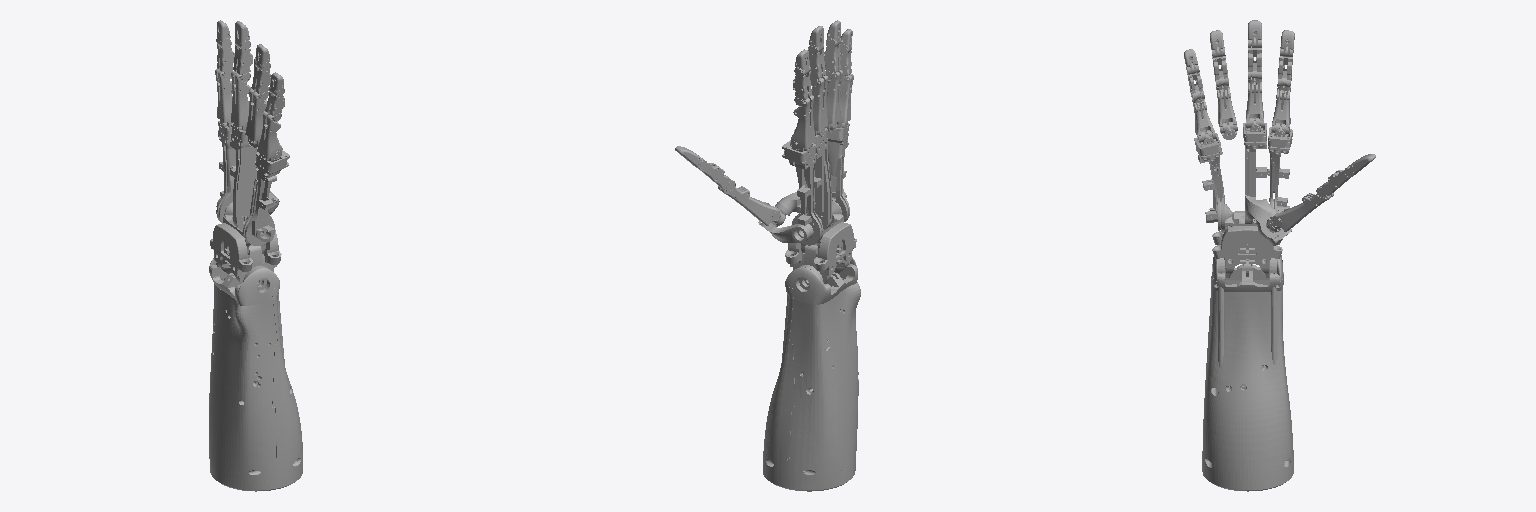
--- What the picture shows (computed from the rendered views, not written in the file) ---
The picture shows the robot from 3 angles, left to right: view 1: azimuth 30°, elevation 25°; view 2: azimuth 150°, elevation 25°; view 3: azimuth 270°, elevation 25°; orthographic projection.
Model dexhand with 29 links and 28 joints (24 revolute, 4 fixed), rooted at base_link, posed all joints at 0.
Visible links, largest first — view 1: forearm_1, wrist_lower_1, pinky_bulk_1, middle_bulk_1, index_bulk_1, middle_plp_1, ring_plp_1, pinky_plp_1, index_plp_1; view 2: forearm_1, middle_bulk_1, wrist_lower_1, index_bulk_1, pinky_bulk_1, thumb_plp_1, index_plp_1, middle_plp_1, ring_plp_1; view 3: forearm_1, wrist_lower_1, middle_bulk_1, pinky_bulk_1, index_bulk_1, thumb_plp_1, middle_plp_1, index_plp_1, ring_plp_1, pinky_plp_1.
Link boxes in pixels (x1,y1,x2,y2): forearm_1: (209, 258, 302, 491); wrist_lower_1: (210, 223, 281, 283); pinky_bulk_1: (243, 150, 289, 245); middle_bulk_1: (216, 123, 279, 230); index_bulk_1: (216, 121, 235, 222); middle_plp_1: (231, 71, 251, 126); ring_plp_1: (245, 89, 268, 141); pinky_plp_1: (257, 111, 282, 158); index_plp_1: (215, 69, 232, 122); forearm_1: (763, 257, 860, 491); middle_bulk_1: (758, 128, 831, 242); wrist_lower_1: (785, 222, 856, 283); index_bulk_1: (782, 140, 823, 245); pinky_bulk_1: (827, 123, 849, 221); thumb_plp_1: (718, 176, 775, 225); index_plp_1: (791, 95, 815, 147); middle_plp_1: (810, 75, 827, 130); ring_plp_1: (826, 70, 842, 123); forearm_1: (1202, 255, 1293, 491); wrist_lower_1: (1212, 211, 1282, 277); middle_bulk_1: (1243, 123, 1291, 245); pinky_bulk_1: (1194, 133, 1224, 230); index_bulk_1: (1267, 127, 1292, 230); thumb_plp_1: (1277, 183, 1333, 231); middle_plp_1: (1246, 71, 1263, 120); index_plp_1: (1272, 77, 1291, 127); ring_plp_1: (1215, 77, 1236, 126); pinky_plp_1: (1190, 91, 1214, 135).
Size in the robot's own frame: 0.117 by 0.1763 by 0.45 metres.
Meshes: 29 distinct files referenced, 28 mesh visuals loaded (28 binary STL); not drawn: 1 (reference not matched to a file when rendering).

The robot description file, URDF, robot "dexhand":
<?xml version="1.0" ?>
<!-- =================================================================================== -->
<!-- |    This document was autogenerated by xacro from dexhand.xacro                  | -->
<!-- |    EDITING THIS FILE BY HAND IS NOT RECOMMENDED                                 | -->
<!-- =================================================================================== -->
<robot name="dexhand">
  <material name="silver">
    <color rgba="0.700 0.700 0.700 1.000"/>
  </material>
  <link name="base_link">
    <inertial>
      <origin rpy="0 0 0" xyz="-5.952490372344805e-18 -5.952490372344805e-18 0.00625299730853927"/>
      <mass value="0.3748186138447861"/>
      <inertia ixx="0.000121" ixy="0.0" ixz="-0.0" iyy="0.000121" iyz="-0.0" izz="0.000233"/>
    </inertial>
    <visual>
      <origin rpy="0 0 0" xyz="0 0 0"/>
      <geometry>
        <mesh filename="meshes/base_link.stl" scale="0.001 0.001 0.001"/>
      </geometry>
      <material name="silver"/>
    </visual>
    <collision>
      <origin rpy="0 0 0" xyz="0 0 0"/>
      <geometry>
        <mesh filename="meshes/base_link.stl" scale="0.001 0.001 0.001"/>
      </geometry>
    </collision>
  </link>
  <link name="forearm_1">
    <inertial>
      <origin rpy="0 0 0" xyz="-0.0045635525882340025 -0.0024890003495871478 0.09119374176848805"/>
      <mass value="2.2753127167166265"/>
      <inertia ixx="0.009336" ixy="-3.2e-05" ixz="0.000837" iyy="0.00912" iyz="4e-06" izz="0.00247"/>
    </inertial>
    <visual>
      <origin rpy="0 0 0" xyz="-0.0 -0.0 -0.0"/>
      <geometry>
        <mesh filename="meshes/forearm_1.stl" scale="0.001 0.001 0.001"/>
      </geometry>
      <material name="silver"/>
    </visual>
    <collision>
      <origin rpy="0 0 0" xyz="-0.0 -0.0 -0.0"/>
      <geometry>
        <mesh filename="meshes/forearm_1.stl" scale="0.001 0.001 0.001"/>
      </geometry>
    </collision>
  </link>
  <link name="wrist_lower_1">
    <inertial>
      <origin rpy="0 0 0" xyz="-3.0683763790256835e-05 0.02099365535807374 0.021635071099651598"/>
      <mass value="0.3236409508310491"/>
      <inertia ixx="0.000132" ixy="-0.0" ixz="-0.0" iyy="0.000118" iyz="-0.0" izz="0.000139"/>
    </inertial>
    <visual>
      <origin rpy="0 0 0" xyz="0.012 0.0217 -0.203"/>
      <geometry>
        <mesh filename="meshes/wrist_lower_1.stl" scale="0.001 0.001 0.001"/>
      </geometry>
      <material name="silver"/>
    </visual>
    <collision>
      <origin rpy="0 0 0" xyz="0.012 0.0217 -0.203"/>
      <geometry>
        <mesh filename="meshes/wrist_lower_1.stl" scale="0.001 0.001 0.001"/>
      </geometry>
    </collision>
  </link>
  <link name="wrist_upper_1">
    <inertial>
      <origin rpy="0 0 0" xyz="0.011943478530919125 1.976395235870395e-08 0.007146961841600852"/>
      <mass value="0.12131953205677495"/>
      <inertia ixx="3.3e-05" ixy="0.0" ixz="-0.0" iyy="2.2e-05" iyz="-0.0" izz="2.6e-05"/>
    </inertial>
    <visual>
      <origin rpy="0 0 0" xyz="0.02398 0.0007 -0.232"/>
      <geometry>
        <mesh filename="meshes/wrist_upper_1.stl" scale="0.001 0.001 0.001"/>
      </geometry>
      <material name="silver"/>
    </visual>
    <collision>
      <origin rpy="0 0 0" xyz="0.02398 0.0007 -0.232"/>
      <geometry>
        <mesh filename="meshes/wrist_upper_1.stl" scale="0.001 0.001 0.001"/>
      </geometry>
    </collision>
  </link>
  <link name="index_bulk_1">
    <inertial>
      <origin rpy="0 0 0" xyz="0.0019538368757692874 0.005732502869548347 0.0431073978685812"/>
      <mass value="0.10571474174321724"/>
      <inertia ixx="0.000112" ixy="-0.0" ixz="-7e-06" iyy="0.000114" iyz="-6e-06" izz="8e-06"/>
    </inertial>
    <visual>
      <origin rpy="0 0 0" xyz="0.01198 -0.0203 -0.255266"/>
      <geometry>
        <mesh filename="meshes/index_bulk_1.stl" scale="0.001 0.001 0.001"/>
      </geometry>
      <material name="silver"/>
    </visual>
    <collision>
      <origin rpy="0 0 0" xyz="0.01198 -0.0203 -0.255266"/>
      <geometry>
        <mesh filename="meshes/index_bulk_1.stl" scale="0.001 0.001 0.001"/>
      </geometry>
    </collision>
  </link>
  <link name="middle_bulk_1">
    <inertial>
      <origin rpy="0 0 0" xyz="0.010646950026404926 -0.0158135798135519 0.030689623412747002"/>
      <mass value="0.2319963124821001"/>
      <inertia ixx="0.000258" ixy="-1.4e-05" ixz="4e-05" iyy="0.000268" iyz="4.2e-05" izz="7.1e-05"/>
    </inertial>
    <visual>
      <origin rpy="0 0 0" xyz="0.01198 -0.0263 -0.255266"/>
      <geometry>
        <mesh filename="meshes/middle_bulk_1.stl" scale="0.001 0.001 0.001"/>
      </geometry>
      <material name="silver"/>
    </visual>
    <collision>
      <origin rpy="0 0 0" xyz="0.01198 -0.0263 -0.255266"/>
      <geometry>
        <mesh filename="meshes/middle_bulk_1.stl" scale="0.001 0.001 0.001"/>
      </geometry>
    </collision>
  </link>
  <link name="ring_bulk_1">
    <inertial>
      <origin rpy="0 0 0" xyz="0.003391811603104299 -0.010251243243741267 0.052778064056847374"/>
      <mass value="0.09588694429304498"/>
      <inertia ixx="7.4e-05" ixy="1e-06" ixz="-7e-06" iyy="7.4e-05" iyz="8e-06" izz="7e-06"/>
    </inertial>
    <visual>
      <origin rpy="0 0 0" xyz="0.01198 0.0027 -0.255266"/>
      <geometry>
        <mesh filename="meshes/ring_bulk_1.stl" scale="0.001 0.001 0.001"/>
      </geometry>
      <material name="silver"/>
    </visual>
    <collision>
      <origin rpy="0 0 0" xyz="0.01198 0.0027 -0.255266"/>
      <geometry>
        <mesh filename="meshes/ring_bulk_1.stl" scale="0.001 0.001 0.001"/>
      </geometry>
    </collision>
  </link>
  <link name="index_knuckle_1">
    <inertial>
      <origin rpy="0 0 0" xyz="0.007134673083101494 -0.000554087541311192 0.0011013348331223027"/>
      <mass value="0.016772407452453803"/>
      <inertia ixx="1e-06" ixy="0.0" ixz="-0.0" iyy="1e-06" iyz="0.0" izz="1e-06"/>
    </inertial>
    <visual>
      <origin rpy="0 0 0" xyz="0.015885 -0.030139 -0.340157"/>
      <geometry>
        <mesh filename="meshes/index_knuckle_1.stl" scale="0.001 0.001 0.001"/>
      </geometry>
      <material name="silver"/>
    </visual>
    <collision>
      <origin rpy="0 0 0" xyz="0.015885 -0.030139 -0.340157"/>
      <geometry>
        <mesh filename="meshes/index_knuckle_1.stl" scale="0.001 0.001 0.001"/>
      </geometry>
    </collision>
  </link>
  <link name="middle_knuckle_1">
    <inertial>
      <origin rpy="0 0 0" xyz="0.006935399474227786 3.095281810115008e-08 0.0009794888636301402"/>
      <mass value="0.016772407452453803"/>
      <inertia ixx="1e-06" ixy="0.0" ixz="-0.0" iyy="1e-06" iyz="0.0" izz="1e-06"/>
    </inertial>
    <visual>
      <origin rpy="0 0 0" xyz="0.014846 -0.0063 -0.346266"/>
      <geometry>
        <mesh filename="meshes/middle_knuckle_1.stl" scale="0.001 0.001 0.001"/>
      </geometry>
      <material name="silver"/>
    </visual>
    <collision>
      <origin rpy="0 0 0" xyz="0.014846 -0.0063 -0.346266"/>
      <geometry>
        <mesh filename="meshes/middle_knuckle_1.stl" scale="0.001 0.001 0.001"/>
      </geometry>
    </collision>
  </link>
  <link name="ring_knuckle_1">
    <inertial>
      <origin rpy="0 0 0" xyz="0.006918049206992899 0.000487529427883715 0.0009797412002321981"/>
      <mass value="0.016772407452453803"/>
      <inertia ixx="1e-06" ixy="-0.0" ixz="-0.0" iyy="1e-06" iyz="-0.0" izz="1e-06"/>
    </inertial>
    <visual>
      <origin rpy="0 0 0" xyz="0.013981 0.018338 -0.342345"/>
      <geometry>
        <mesh filename="meshes/ring_knuckle_1.stl" scale="0.001 0.001 0.001"/>
      </geometry>
      <material name="silver"/>
    </visual>
    <collision>
      <origin rpy="0 0 0" xyz="0.013981 0.018338 -0.342345"/>
      <geometry>
        <mesh filename="meshes/ring_knuckle_1.stl" scale="0.001 0.001 0.001"/>
      </geometry>
    </collision>
  </link>
  <link name="pinky_knuckle_1">
    <inertial>
      <origin rpy="0 0 0" xyz="0.006818820473942532 0.0011821873591725332 0.0010801856787559516"/>
      <mass value="0.016772407452453803"/>
      <inertia ixx="1e-06" ixy="-0.0" ixz="-0.0" iyy="1e-06" iyz="-0.0" izz="1e-06"/>
    </inertial>
    <visual>
      <origin rpy="0 0 0" xyz="0.013416 0.038988 -0.334029"/>
      <geometry>
        <mesh filename="meshes/pinky_knuckle_1.stl" scale="0.001 0.001 0.001"/>
      </geometry>
      <material name="silver"/>
    </visual>
    <collision>
      <origin rpy="0 0 0" xyz="0.013416 0.038988 -0.334029"/>
      <geometry>
        <mesh filename="meshes/pinky_knuckle_1.stl" scale="0.001 0.001 0.001"/>
      </geometry>
    </collision>
  </link>
  <link name="index_plp_1">
    <inertial>
      <origin rpy="0 0 0" xyz="-0.006869198158126683 -0.006033909809302226 0.022940465298997237"/>
      <mass value="0.051567105457974535"/>
      <inertia ixx="1.1e-05" ixy="-0.0" ixz="0.0" iyy="1.1e-05" iyz="-1e-06" izz="2e-06"/>
    </inertial>
    <visual>
      <origin rpy="0 0 0" xyz="0.007269 -0.037678 -0.343728"/>
      <geometry>
        <mesh filename="meshes/index_plp_1.stl" scale="0.001 0.001 0.001"/>
      </geometry>
      <material name="silver"/>
    </visual>
    <collision>
      <origin rpy="0 0 0" xyz="0.007269 -0.037678 -0.343728"/>
      <geometry>
        <mesh filename="meshes/index_plp_1.stl" scale="0.001 0.001 0.001"/>
      </geometry>
    </collision>
  </link>
  <link name="index_mlp_1">
<!--    <inertial>-->
<!--      <origin rpy="0 0 0" xyz="-0.0014672452336520724 -0.004861924263139264 0.014904028884496767"/>-->
<!--      <mass value="0.017288956361389173"/>-->
<!--      <inertia ixx="1e-06" ixy="-0.0" ixz="-0.0" iyy="1e-06" iyz="-0.0" izz="0.0"/>-->
<!--    </inertial>-->
    <visual>
      <origin rpy="0 0 0" xyz="0.011959 -0.038935 -0.388702"/>
      <geometry>
        <mesh filename="meshes/index_mlp_1.stl" scale="0.001 0.001 0.001"/>
      </geometry>
      <material name="silver"/>
    </visual>
    <collision>
      <origin rpy="0 0 0" xyz="0.011959 -0.038935 -0.388702"/>
      <geometry>
        <mesh filename="meshes/index_mlp_1.stl" scale="0.001 0.001 0.001"/>
      </geometry>
    </collision>
  </link>
  <link name="index_tip_1">
<!--    <inertial>-->
<!--      <origin rpy="0 0 0" xyz="-0.0008641939647346161 -0.005385771025884202 0.006769569897979"/>-->
<!--      <mass value="0.0160783570939756"/>-->
<!--      <inertia ixx="1e-06" ixy="-0.0" ixz="0.0" iyy="1e-06" iyz="-0.0" izz="0.0"/>-->
<!--    </inertial>-->
    <visual>
      <origin rpy="0 0 0" xyz="0.013327 -0.041154 -0.418589"/>
      <geometry>
        <mesh filename="meshes/index_tip_1.stl" scale="0.001 0.001 0.001"/>
      </geometry>
      <material name="silver"/>
    </visual>
    <collision>
      <origin rpy="0 0 0" xyz="0.013327 -0.041154 -0.418589"/>
      <geometry>
        <mesh filename="meshes/index_tip_1.stl" scale="0.001 0.001 0.001"/>
      </geometry>
    </collision>
  </link>
  <link name="middle_plp_1">
    <inertial>
      <origin rpy="0 0 0" xyz="-0.00594358104054421 -0.00819999164061916 0.02373210744114279"/>
      <mass value="0.05600912510930776"/>
      <inertia ixx="1.3e-05" ixy="0.0" ixz="0.0" iyy="1.3e-05" iyz="0.0" izz="2e-06"/>
    </inertial>
    <visual>
      <origin rpy="0 0 0" xyz="0.007096 -0.0143 -0.350266"/>
      <geometry>
        <mesh filename="meshes/middle_plp_1.stl" scale="0.001 0.001 0.001"/>
      </geometry>
      <material name="silver"/>
    </visual>
    <collision>
      <origin rpy="0 0 0" xyz="0.007096 -0.0143 -0.350266"/>
      <geometry>
        <mesh filename="meshes/middle_plp_1.stl" scale="0.001 0.001 0.001"/>
      </geometry>
    </collision>
  </link>
  <link name="middle_mlp_1">
    <inertial>
      <origin rpy="0 0 0" xyz="-0.0002942937668230401 -0.006300032078833909 0.01528820861860336"/>
      <mass value="0.019660714741942815"/>
      <inertia ixx="1e-06" ixy="0.0" ixz="-0.0" iyy="1e-06" iyz="0.0" izz="1e-06"/>
    </inertial>
    <visual>
      <origin rpy="0 0 0" xyz="0.011096 -0.0123 -0.397516"/>
      <geometry>
        <mesh filename="meshes/middle_mlp_1.stl" scale="0.001 0.001 0.001"/>
      </geometry>
      <material name="silver"/>
    </visual>
    <collision>
      <origin rpy="0 0 0" xyz="0.011096 -0.0123 -0.397516"/>
      <geometry>
        <mesh filename="meshes/middle_mlp_1.stl" scale="0.001 0.001 0.001"/>
      </geometry>
    </collision>
  </link>
  <link name="middle_tip_1">
<!--    <inertial>-->
<!--      <origin rpy="0 0 0" xyz="-0.0006361624064090965 -0.006200060330852975 0.0068547001404333785"/>-->
<!--      <mass value="0.0177222165691614"/>-->
<!--      <inertia ixx="1e-06" ixy="0.0" ixz="0.0" iyy="1e-06" iyz="0.0" izz="0.0"/>-->
<!--    </inertial>-->
    <visual>
      <origin rpy="0 0 0" xyz="0.011096 -0.0123 -0.429016"/>
      <geometry>
        <mesh filename="meshes/middle_tip_1.stl" scale="0.001 0.001 0.001"/>
      </geometry>
      <material name="silver"/>
    </visual>
    <collision>
      <origin rpy="0 0 0" xyz="0.011096 -0.0123 -0.429016"/>
      <geometry>
        <mesh filename="meshes/middle_tip_1.stl" scale="0.001 0.001 0.001"/>
      </geometry>
    </collision>
  </link>
  <link name="ring_plp_1">
    <inertial>
      <origin rpy="0 0 0" xyz="-0.004988778025381051 -0.011235452676283293 0.021431089299078443"/>
      <mass value="0.051607390430851795"/>
      <inertia ixx="1.1e-05" ixy="0.0" ixz="-0.0" iyy="1.1e-05" iyz="1e-06" izz="2e-06"/>
    </inertial>
    <visual>
      <origin rpy="0 0 0" xyz="0.006914 0.010213 -0.347254"/>
      <geometry>
        <mesh filename="meshes/ring_plp_1.stl" scale="0.001 0.001 0.001"/>
      </geometry>
      <material name="silver"/>
    </visual>
    <collision>
      <origin rpy="0 0 0" xyz="0.006914 0.010213 -0.347254"/>
      <geometry>
        <mesh filename="meshes/ring_plp_1.stl" scale="0.001 0.001 0.001"/>
      </geometry>
    </collision>
  </link>
  <link name="ring_mlp_1">
<!--    <inertial>-->
<!--      <origin rpy="0 0 0" xyz="0.00037321408367821905 -0.007644713369413636 0.013759338633879237"/>-->
<!--      <mass value="0.017289443732746056"/>-->
<!--      <inertia ixx="1e-06" ixy="0.0" ixz="-0.0" iyy="1e-06" iyz="0.0" izz="0.0"/>-->
<!--    </inertial>-->
    <visual>
      <origin rpy="0 0 0" xyz="0.010293 0.018042 -0.39168"/>
      <geometry>
        <mesh filename="meshes/ring_mlp_1.stl" scale="0.001 0.001 0.001"/>
      </geometry>
      <material name="silver"/>
    </visual>
    <collision>
      <origin rpy="0 0 0" xyz="0.010293 0.018042 -0.39168"/>
      <geometry>
        <mesh filename="meshes/ring_mlp_1.stl" scale="0.001 0.001 0.001"/>
      </geometry>
    </collision>
  </link>
  <link name="ring_tip_1">
<!--    <inertial>-->
<!--      <origin rpy="0 0 0" xyz="-2.475222624376619e-05 -0.006623152446546359 0.005616048262013451"/>-->
<!--      <mass value="0.016038982608931798"/>-->
<!--      <inertia ixx="1e-06" ixy="0.0" ixz="0.0" iyy="1e-06" iyz="0.0" izz="0.0"/>-->
<!--    </inertial>-->
    <visual>
      <origin rpy="0 0 0" xyz="0.010021 0.021513 -0.421477"/>
      <geometry>
        <mesh filename="meshes/ring_tip_1.stl" scale="0.001 0.001 0.001"/>
      </geometry>
      <material name="silver"/>
    </visual>
    <collision>
      <origin rpy="0 0 0" xyz="0.010021 0.021513 -0.421477"/>
      <geometry>
        <mesh filename="meshes/ring_tip_1.stl" scale="0.001 0.001 0.001"/>
      </geometry>
    </collision>
  </link>
  <link name="pinky_plp_1">
    <inertial>
      <origin rpy="0 0 0" xyz="-0.0038106689386204866 -0.012544392770237969 0.01824146705848928"/>
      <mass value="0.04272741599660885"/>
      <inertia ixx="8e-06" ixy="0.0" ixz="-0.0" iyy="8e-06" iyz="1e-06" izz="1e-06"/>
    </inertial>
    <visual>
      <origin rpy="0 0 0" xyz="0.007304 0.030449 -0.339487"/>
      <geometry>
        <mesh filename="meshes/pinky_plp_1.stl" scale="0.001 0.001 0.001"/>
      </geometry>
      <material name="silver"/>
    </visual>
    <collision>
      <origin rpy="0 0 0" xyz="0.007304 0.030449 -0.339487"/>
      <geometry>
        <mesh filename="meshes/pinky_plp_1.stl" scale="0.001 0.001 0.001"/>
      </geometry>
    </collision>
  </link>
  <link name="pinky_mlp_1">
<!--    <inertial>-->
<!--      <origin rpy="0 0 0" xyz="0.0010481249693847592 -0.007529779935539188 0.011942260100063107"/>-->
<!--      <mass value="0.012979924052628225"/>-->
<!--      <inertia ixx="1e-06" ixy="0.0" ixz="-0.0" iyy="1e-06" iyz="0.0" izz="0.0"/>-->
<!--    </inertial>-->
    <visual>
      <origin rpy="0 0 0" xyz="0.009816 0.041033 -0.37881"/>
      <geometry>
        <mesh filename="meshes/pinky_mlp_1.stl" scale="0.001 0.001 0.001"/>
      </geometry>
      <material name="silver"/>
    </visual>
    <collision>
      <origin rpy="0 0 0" xyz="0.009816 0.041033 -0.37881"/>
      <geometry>
        <mesh filename="meshes/pinky_mlp_1.stl" scale="0.001 0.001 0.001"/>
      </geometry>
    </collision>
  </link>
  <link name="pinky_tip_1">
<!--    <inertial>-->
<!--      <origin rpy="0 0 0" xyz="0.0005692184398215679 -0.006140507616860642 0.004252021497513858"/>-->
<!--      <mass value="0.012880734939160096"/>-->
<!--      <inertia ixx="1e-06" ixy="0.0" ixz="0.0" iyy="1e-06" iyz="0.0" izz="0.0"/>-->
<!--    </inertial>-->
    <visual>
      <origin rpy="0 0 0" xyz="0.009341 0.045718 -0.405396"/>
      <geometry>
        <mesh filename="meshes/pinky_tip_1.stl" scale="0.001 0.001 0.001"/>
      </geometry>
      <material name="silver"/>
    </visual>
    <collision>
      <origin rpy="0 0 0" xyz="0.009341 0.045718 -0.405396"/>
      <geometry>
        <mesh filename="meshes/pinky_tip_1.stl" scale="0.001 0.001 0.001"/>
      </geometry>
    </collision>
  </link>
  <link name="thumb_cmc_b_1">
    <inertial>
      <origin rpy="0 0 0" xyz="0.0033512527298519643 0.005810607163787045 -0.008141548652481512"/>
      <mass value="0.008494087027059793"/>
      <inertia ixx="0.0" ixy="-0.0" ixz="0.0" iyy="0.0" iyz="0.0" izz="0.0"/>
    </inertial>
    <visual>
      <origin rpy="0 0 0" xyz="-0.014937 -0.01879 -0.268001"/>
      <geometry>
        <mesh filename="meshes/thumb_cmc_b_1.stl" scale="0.001 0.001 0.001"/>
      </geometry>
      <material name="silver"/>
    </visual>
    <collision>
      <origin rpy="0 0 0" xyz="-0.014937 -0.01879 -0.268001"/>
      <geometry>
        <mesh filename="meshes/thumb_cmc_b_1.stl" scale="0.001 0.001 0.001"/>
      </geometry>
    </collision>
  </link>
  <link name="thumb_cmc_a_1">
    <inertial>
      <origin rpy="0 0 0" xyz="0.0029466810384300712 0.005054293341482698 0.005851296597689126"/>
      <mass value="0.015039242610946097"/>
      <inertia ixx="0.0" ixy="0.0" ixz="-0.0" iyy="0.0" iyz="-0.0" izz="0.0"/>
    </inertial>
    <visual>
      <origin rpy="0 0 0" xyz="-0.017759 -0.023693 -0.258808"/>
      <geometry>
        <mesh filename="meshes/thumb_cmc_a_1.stl" scale="0.001 0.001 0.001"/>
      </geometry>
      <material name="silver"/>
    </visual>
    <collision>
      <origin rpy="0 0 0" xyz="-0.017759 -0.023693 -0.258808"/>
      <geometry>
        <mesh filename="meshes/thumb_cmc_a_1.stl" scale="0.001 0.001 0.001"/>
      </geometry>
    </collision>
  </link>
  <link name="thumb_plp_1">
    <inertial>
      <origin rpy="0 0 0" xyz="0.005433746290735154 0.025637034957291558 0.01661470656693176"/>
      <mass value="0.06710748615776632"/>
      <inertia ixx="2e-05" ixy="-5e-06" ixz="-5e-06" iyy="1.5e-05" iyz="-9e-06" izz="1.3e-05"/>
    </inertial>
    <visual>
      <origin rpy="0 0 0" xyz="-0.028683 -0.026348 -0.26657"/>
      <geometry>
        <mesh filename="meshes/thumb_plp_1.stl" scale="0.001 0.001 0.001"/>
      </geometry>
      <material name="silver"/>
    </visual>
    <collision>
      <origin rpy="0 0 0" xyz="-0.028683 -0.026348 -0.26657"/>
      <geometry>
        <mesh filename="meshes/thumb_plp_1.stl" scale="0.001 0.001 0.001"/>
      </geometry>
    </collision>
  </link>
  <link name="thumb_mlp_1">
    <inertial>
      <origin rpy="0 0 0" xyz="0.002151568364903468 0.015611380274394432 0.012743956202626694"/>
      <mass value="0.025187203449803457"/>
      <inertia ixx="2e-06" ixy="-0.0" ixz="-0.0" iyy="2e-06" iyz="-1e-06" izz="2e-06"/>
    </inertial>
    <visual>
      <origin rpy="0 0 0" xyz="-0.049475 -0.066604 -0.306172"/>
      <geometry>
        <mesh filename="meshes/thumb_mlp_1.stl" scale="0.001 0.001 0.001"/>
      </geometry>
      <material name="silver"/>
    </visual>
    <collision>
      <origin rpy="0 0 0" xyz="-0.049475 -0.066604 -0.306172"/>
      <geometry>
        <mesh filename="meshes/thumb_mlp_1.stl" scale="0.001 0.001 0.001"/>
      </geometry>
    </collision>
  </link>
  <link name="thumb_tip_1">
    <inertial>
      <origin rpy="0 0 0" xyz="-0.0009246362325293633 0.010131321702323517 0.007474037055237359"/>
      <mass value="0.02316990761545859"/>
      <inertia ixx="2e-06" ixy="-0.0" ixz="-0.0" iyy="2e-06" iyz="-1e-06" izz="2e-06"/>
    </inertial>
    <visual>
      <origin rpy="0 0 0" xyz="-0.064312 -0.092065 -0.333221"/>
      <geometry>
        <mesh filename="meshes/thumb_tip_1.stl" scale="0.001 0.001 0.001"/>
      </geometry>
      <material name="silver"/>
    </visual>
    <collision>
      <origin rpy="0 0 0" xyz="-0.064312 -0.092065 -0.333221"/>
      <geometry>
        <mesh filename="meshes/thumb_tip_1.stl" scale="0.001 0.001 0.001"/>
      </geometry>
    </collision>
  </link>
  <link name="pinky_bulk_1">
    <inertial>
      <origin rpy="0 0 0" xyz="0.0027271468848747184 -0.022196857115917325 0.03641088783645313"/>
      <mass value="0.11417768838788588"/>
      <inertia ixx="0.000111" ixy="1e-06" ixz="-1e-05" iyy="0.000112" iyz="1.3e-05" izz="1e-05"/>
    </inertial>
    <visual>
      <origin rpy="0 0 0" xyz="0.01198 0.008743 -0.255266"/>
      <geometry>
        <mesh filename="meshes/pinky_bulk_1.stl" scale="0.001 0.001 0.001"/>
      </geometry>
      <material name="silver"/>
    </visual>
    <collision>
      <origin rpy="0 0 0" xyz="0.01198 0.008743 -0.255266"/>
      <geometry>
        <mesh filename="meshes/pinky_bulk_1.stl" scale="0.001 0.001 0.001"/>
      </geometry>
    </collision>
  </link>
  <joint name="flange" type="fixed">
    <origin rpy="0 0 0" xyz="0.0 0.0 0.0"/>
    <parent link="base_link"/>
    <child link="forearm_1"/>
  </joint>
  <joint name="wrist_pitch_lower" type="revolute">
    <origin rpy="0 0 0" xyz="-0.012 -0.0217 0.203"/>
    <parent link="forearm_1"/>
    <child link="wrist_lower_1"/>
    <axis xyz="0.0 -1.0 0.0"/>
    <limit effort="100" lower="-0.523599" upper="0.523599" velocity="100"/>
  </joint>
  <joint name="wrist_yaw" type="revolute">
    <origin rpy="0 0 0" xyz="-0.01198 0.021 0.029"/>
    <parent link="wrist_lower_1"/>
    <child link="wrist_upper_1"/>
    <axis xyz="-1.0 0.0 0.0"/>
    <limit effort="100" lower="-0.436332" upper="0.436332" velocity="100"/>
  </joint>
  <joint name="wrist_pitch_upper" type="revolute">
    <origin rpy="0 0 0" xyz="0.012 0.021 0.023266"/>
    <parent link="wrist_upper_1"/>
    <child link="index_bulk_1"/>
    <axis xyz="-0.0 -1.0 -0.0"/>
    <limit effort="100" lower="-0.349066" upper="0.349066" velocity="100"/>
  </joint>
  <joint name="middle_bulk" type="fixed">
    <origin rpy="0 0 0" xyz="0.0 0.006 0.0"/>
    <parent link="index_bulk_1"/>
    <child link="middle_bulk_1"/>
  </joint>
  <joint name="ring_bulk" type="fixed">
    <origin rpy="0 0 0" xyz="0.0 -0.029 0.0"/>
    <parent link="middle_bulk_1"/>
    <child link="ring_bulk_1"/>
  </joint>
  <joint name="index_yaw" type="revolute">
    <origin rpy="0 0 0" xyz="-0.003905 0.009839 0.084891"/>
    <parent link="index_bulk_1"/>
    <child link="index_knuckle_1"/>
    <axis xyz="-0.99606 0.086969 -0.017358"/>
    <limit effort="100" lower="-0.349066" upper="0.349066" velocity="100"/>
  </joint>
  <joint name="middle_yaw" type="revolute">
    <origin rpy="0 0 0" xyz="-0.002866 -0.02 0.091"/>
    <parent link="middle_bulk_1"/>
    <child link="middle_knuckle_1"/>
    <axis xyz="-1.0 0.0 0.0"/>
    <limit effort="100" lower="-0.349066" upper="0.349066" velocity="100"/>
  </joint>
  <joint name="ring_yaw" type="revolute">
    <origin rpy="0 0 0" xyz="-0.002001 -0.015638 0.087079"/>
    <parent link="ring_bulk_1"/>
    <child link="ring_knuckle_1"/>
    <axis xyz="-0.996234 -0.086694 -0.001008"/>
    <limit effort="100" lower="-0.349066" upper="0.349066" velocity="100"/>
  </joint>
  <joint name="pinky_yaw" type="revolute">
    <origin rpy="0 0 0" xyz="-0.001436 -0.030245 0.078763"/>
    <parent link="pinky_bulk_1"/>
    <child link="pinky_knuckle_1"/>
    <axis xyz="-0.98067 -0.194947 -0.016825"/>
    <limit effort="100" lower="-0.349066" upper="0.349066" velocity="100"/>
  </joint>
  <joint name="index_pitch" type="revolute">
    <origin rpy="0 0 0" xyz="0.008616 0.007539 0.003571"/>
    <parent link="index_knuckle_1"/>
    <child link="index_plp_1"/>
    <axis xyz="0.087977 0.993678 -0.069746"/>
    <limit effort="100" lower="0.0" upper="0.785398" velocity="100"/>
  </joint>
  <joint name="index_knuckle" type="revolute">
    <origin rpy="0 0 0" xyz="-0.00469 0.001257 0.044974"/>
    <parent link="index_plp_1"/>
    <child link="index_mlp_1"/>
    <axis xyz="0.087977 0.993678 -0.069746"/>
    <limit effort="100" lower="0.0" upper="0.785398" velocity="100"/>
  </joint>
  <joint name="index_tip" type="revolute">
    <origin rpy="0 0 0" xyz="-0.001368 0.002219 0.029887"/>
    <parent link="index_mlp_1"/>
    <child link="index_tip_1"/>
    <axis xyz="0.087977 0.993678 -0.069746"/>
    <limit effort="100" lower="0.0" upper="0.785398" velocity="100"/>
  </joint>
  <joint name="middle_pitch" type="revolute">
    <origin rpy="0 0 0" xyz="0.00775 0.008 0.004"/>
    <parent link="middle_knuckle_1"/>
    <child link="middle_plp_1"/>
    <axis xyz="0.0 1.0 0.0"/>
    <limit effort="100" lower="0.0" upper="0.785398" velocity="100"/>
  </joint>
  <joint name="middle_knuckle" type="revolute">
    <origin rpy="0 0 0" xyz="-0.004 -0.002 0.04725"/>
    <parent link="middle_plp_1"/>
    <child link="middle_mlp_1"/>
    <axis xyz="0.0 1.0 0.0"/>
    <limit effort="100" lower="0.0" upper="0.785398" velocity="100"/>
  </joint>
  <joint name="middle_tip" type="revolute">
    <origin rpy="0 0 0" xyz="0.0 0.0 0.0315"/>
    <parent link="middle_mlp_1"/>
    <child link="middle_tip_1"/>
    <axis xyz="0.0 1.0 0.0"/>
    <limit effort="100" lower="0.0" upper="0.785398" velocity="100"/>
  </joint>
  <joint name="ring_pitch" type="revolute">
    <origin rpy="0 0 0" xyz="0.007067 0.008125 0.004909"/>
    <parent link="ring_knuckle_1"/>
    <child link="ring_plp_1"/>
    <axis xyz="-0.086225 0.989495 0.116038"/>
    <limit effort="100" lower="0.0" upper="0.785398" velocity="100"/>
  </joint>
  <joint name="ring_knuckle" type="revolute">
    <origin rpy="0 0 0" xyz="-0.003379 -0.007829 0.044426"/>
    <parent link="ring_plp_1"/>
    <child link="ring_mlp_1"/>
    <axis xyz="-0.086225 0.989495 0.116038"/>
    <limit effort="100" lower="0.0" upper="0.785398" velocity="100"/>
  </joint>
  <joint name="ring_tip" type="revolute">
    <origin rpy="0 0 0" xyz="0.000272 -0.003471 0.029797"/>
    <parent link="ring_mlp_1"/>
    <child link="ring_tip_1"/>
    <axis xyz="-0.086225 0.989495 0.116038"/>
    <limit effort="100" lower="0.0" upper="0.785398" velocity="100"/>
  </joint>
  <joint name="pinky_pitch" type="revolute">
    <origin rpy="0 0 0" xyz="0.006112 0.008539 0.005458"/>
    <parent link="pinky_knuckle_1"/>
    <child link="pinky_plp_1"/>
    <axis xyz="-0.194878 0.965338 0.173624"/>
    <limit effort="100" lower="0.0" upper="0.785398" velocity="100"/>
  </joint>
  <joint name="pinky_knuckle" type="revolute">
    <origin rpy="0 0 0" xyz="-0.002512 -0.010584 0.039323"/>
    <parent link="pinky_plp_1"/>
    <child link="pinky_mlp_1"/>
    <axis xyz="-0.194878 0.965338 0.173624"/>
    <limit effort="100" lower="0.0" upper="0.785398" velocity="100"/>
  </joint>
  <joint name="pinky_tip" type="revolute">
    <origin rpy="0 0 0" xyz="0.000475 -0.004685 0.026586"/>
    <parent link="pinky_mlp_1"/>
    <child link="pinky_tip_1"/>
    <axis xyz="-0.194878 0.965338 0.173624"/>
    <limit effort="100" lower="0.0" upper="0.785398" velocity="100"/>
  </joint>
  <joint name="thumb_yaw" type="revolute">
    <origin rpy="0 0 0" xyz="0.026917 -0.00751 0.012735"/>
    <parent link="middle_bulk_1"/>
    <child link="thumb_cmc_b_1"/>
    <axis xyz="0.353553 0.612372 -0.707107"/>
    <limit effort="100" lower="0.0" upper="0.872665" velocity="100"/>
  </joint>
  <joint name="thumb_roll" type="revolute">
    <origin rpy="0 0 0" xyz="0.002822 0.004903 -0.009193"/>
    <parent link="thumb_cmc_b_1"/>
    <child link="thumb_cmc_a_1"/>
    <axis xyz="-0.35613 -0.610881 -0.707104"/>
    <limit effort="100" lower="0.0" upper="0.349066" velocity="100"/>
  </joint>
  <joint name="thumb_pitch" type="revolute">
    <origin rpy="0 0 0" xyz="0.010924 0.002655 0.007762"/>
    <parent link="thumb_cmc_a_1"/>
    <child link="thumb_plp_1"/>
    <axis xyz="0.864969 -0.501821 -0.002105"/>
    <limit effort="100" lower="0.0" upper="1.047198" velocity="100"/>
  </joint>
  <joint name="thumb_knuckle" type="revolute">
    <origin rpy="0 0 0" xyz="0.020792 0.040256 0.039602"/>
    <parent link="thumb_plp_1"/>
    <child link="thumb_mlp_1"/>
    <axis xyz="0.864969 -0.501821 -0.002105"/>
    <limit effort="100" lower="0.0" upper="0.785398" velocity="100"/>
  </joint>
  <joint name="thumb_tip" type="revolute">
    <origin rpy="0 0 0" xyz="0.014837 0.025461 0.027049"/>
    <parent link="thumb_mlp_1"/>
    <child link="thumb_tip_1"/>
    <axis xyz="0.864969 -0.501821 -0.002105"/>
    <limit effort="100" lower="0.0" upper="0.785398" velocity="100"/>
  </joint>
  <joint name="Rigid 43" type="fixed">
    <origin rpy="0 0 0" xyz="0.0 -0.006043 0.0"/>
    <parent link="ring_bulk_1"/>
    <child link="pinky_bulk_1"/>
  </joint>
</robot>
